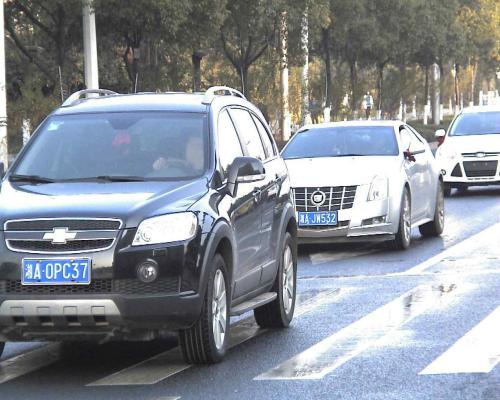Carplate: (21, 255, 94, 288), (296, 210, 342, 230)
